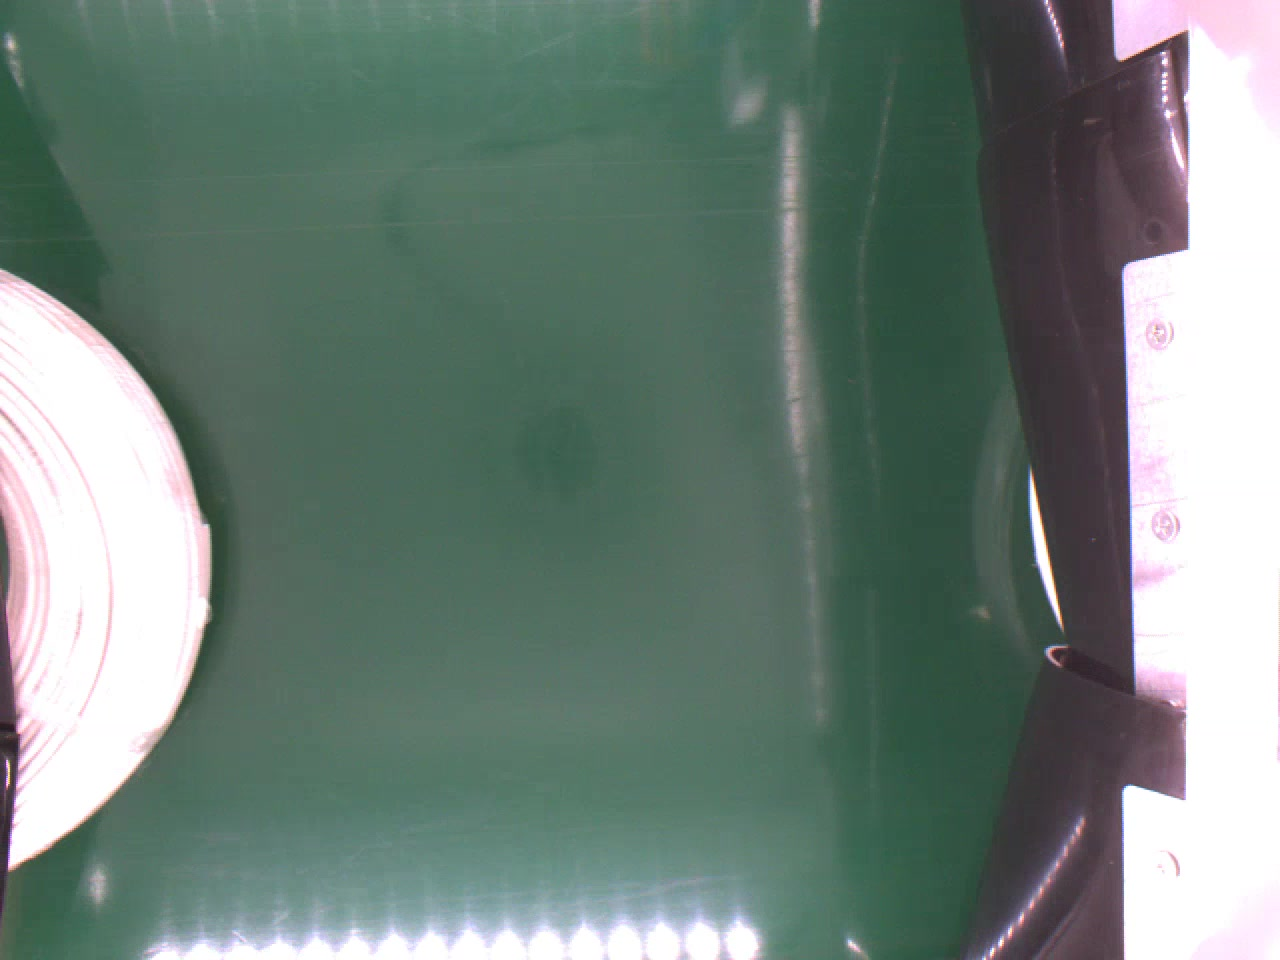white: (0, 265, 217, 868)
